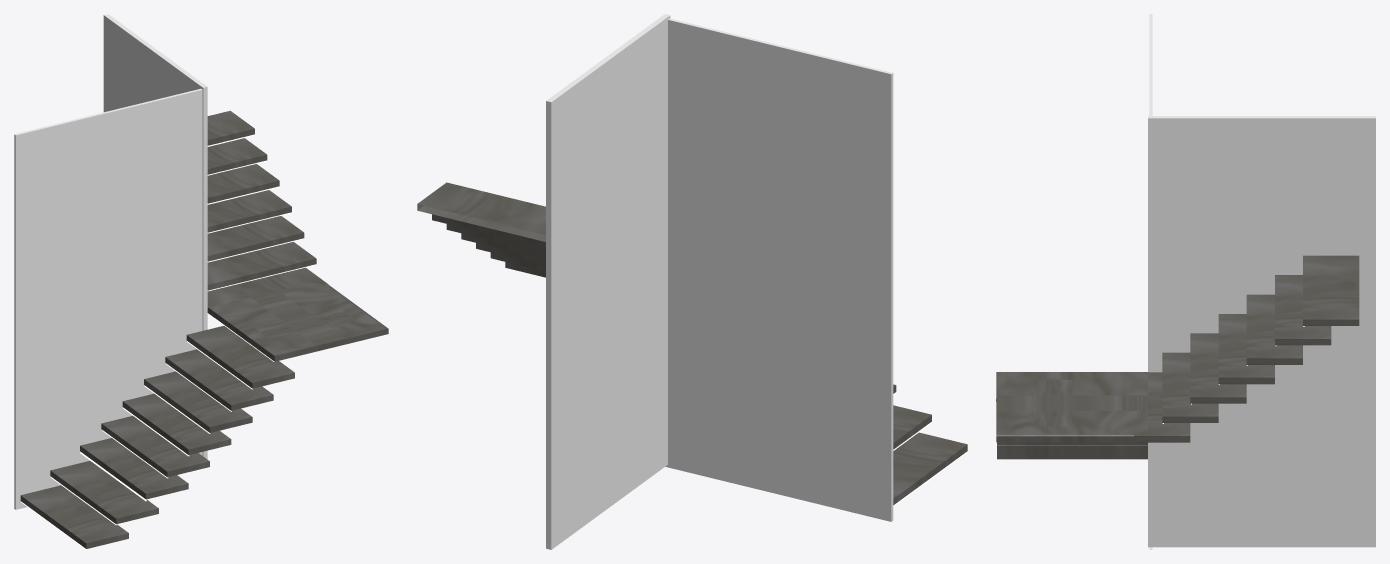
The picture shows the model from 3 angles, left to right: view 1: azimuth 30°, elevation 25°; view 2: azimuth 150°, elevation 25°; view 3: azimuth 270°, elevation 25°; orthographic projection. The views are drawn at different scales.
Parts seen in each view (by area): view 1: Cube.016_2; view 2: Cube.016_2; view 3: Cube.016_2.
Part boxes in pixels (x1,y1,x2,y2): Cube.016_2: [14, 14, 388, 549]; Cube.016_2: [417, 14, 967, 549]; Cube.016_2: [996, 14, 1375, 549].
Bounding box in the file's own units: 14.39 × 16.91 × 13.49.
4 materials, 1 textured.
